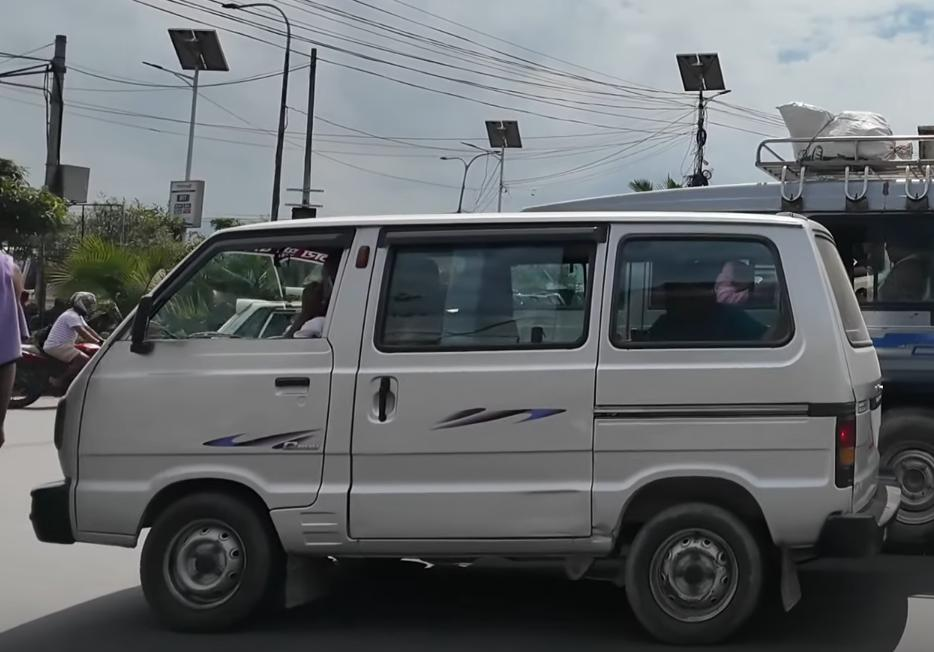van: (31, 201, 884, 652)
